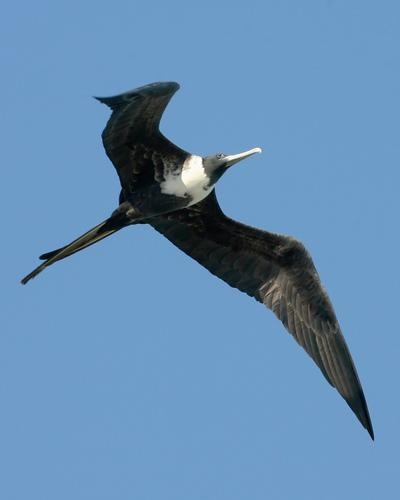bird: (18, 82, 376, 442)
